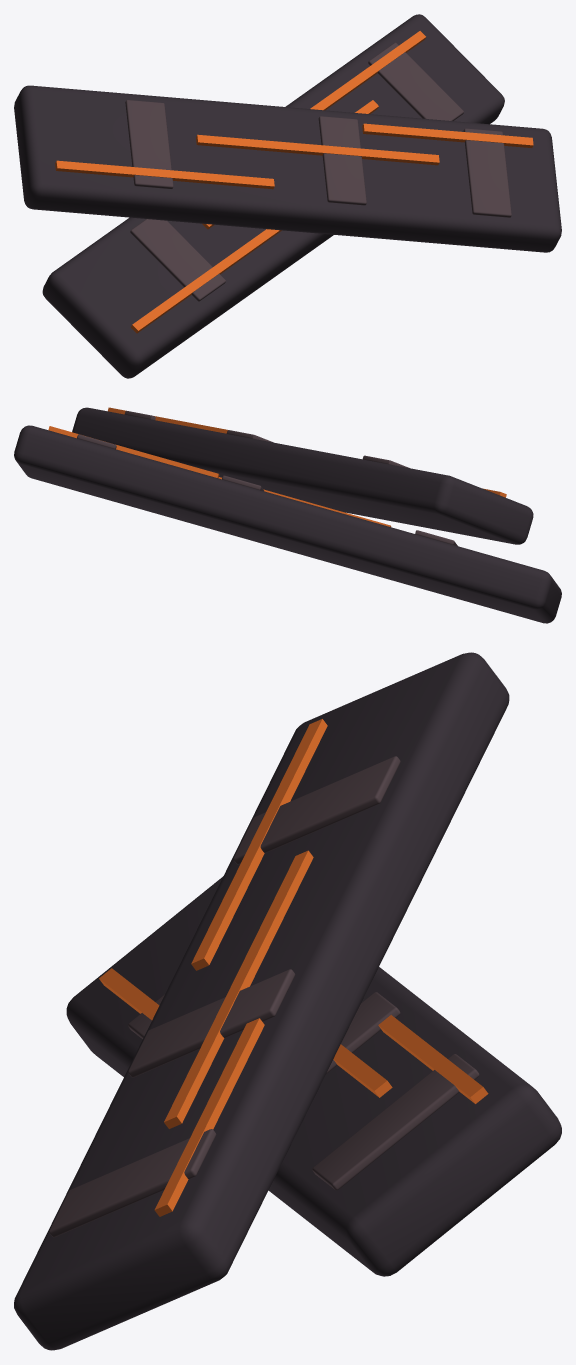
The model's file is mat_emberplank.glb.
The picture shows the model from 3 angles, top to bottom: view 1: azimuth 30°, elevation 25°; view 2: azimuth 150°, elevation 25°; view 3: azimuth 270°, elevation 25°; orthographic projection. The views are drawn at different scales.
Parts seen in each view (by area): view 1: _box; view 2: _box; view 3: _box.
Boxes of the visible parts, x1=… form: _box: x1=14, y1=14, x2=561, y2=378; _box: x1=14, y1=407, x2=561, y2=623; _box: x1=14, y1=652, x2=561, y2=1350.
Size of the model in its own units: 1.11 by 0.4763 by 0.589.
